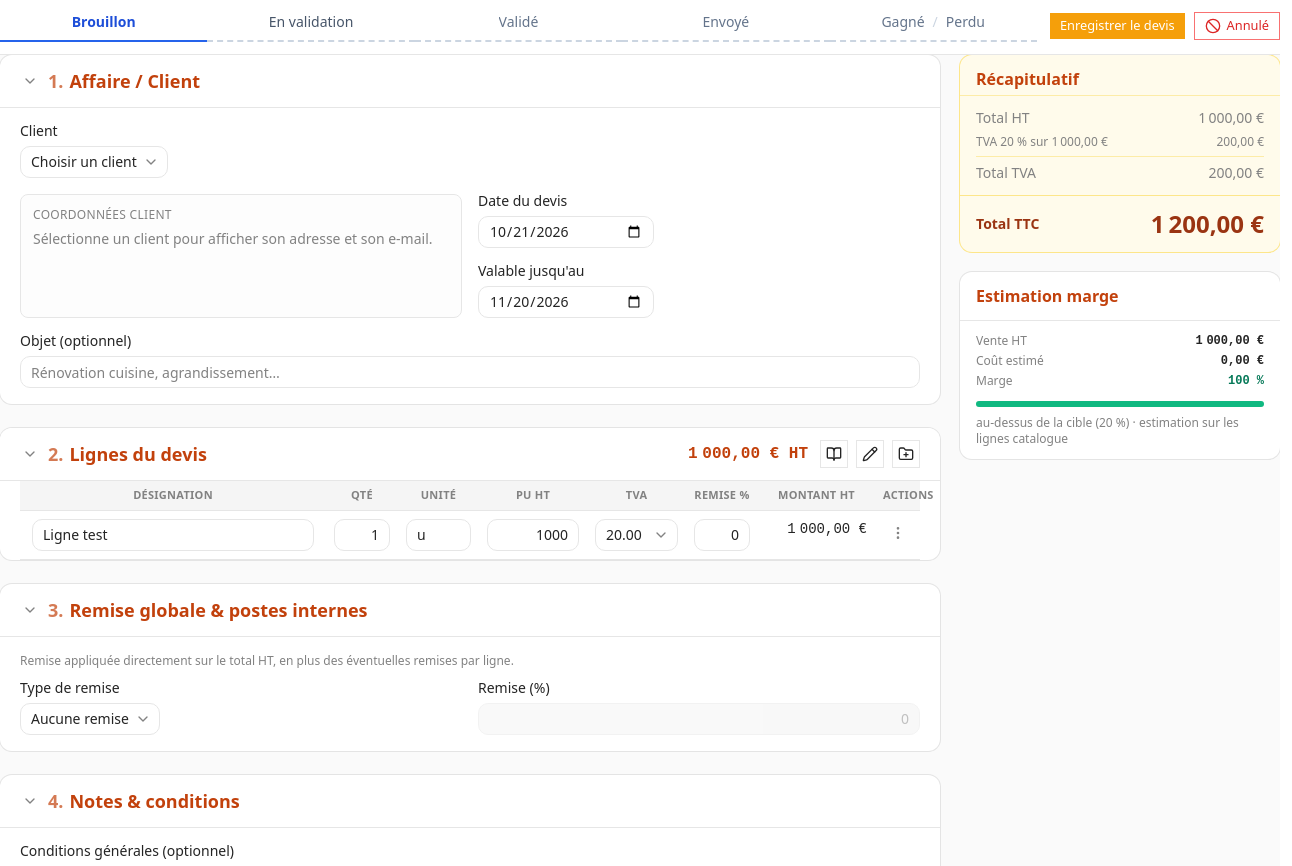
DevisEditor — boutons composants gatés sur import DPGF › masque les 4 boutons composants quand aucun DPGF n’a été importé
Click the heading titled "Actions de la ligne" at (898, 532), box [890, 524, 906, 540]
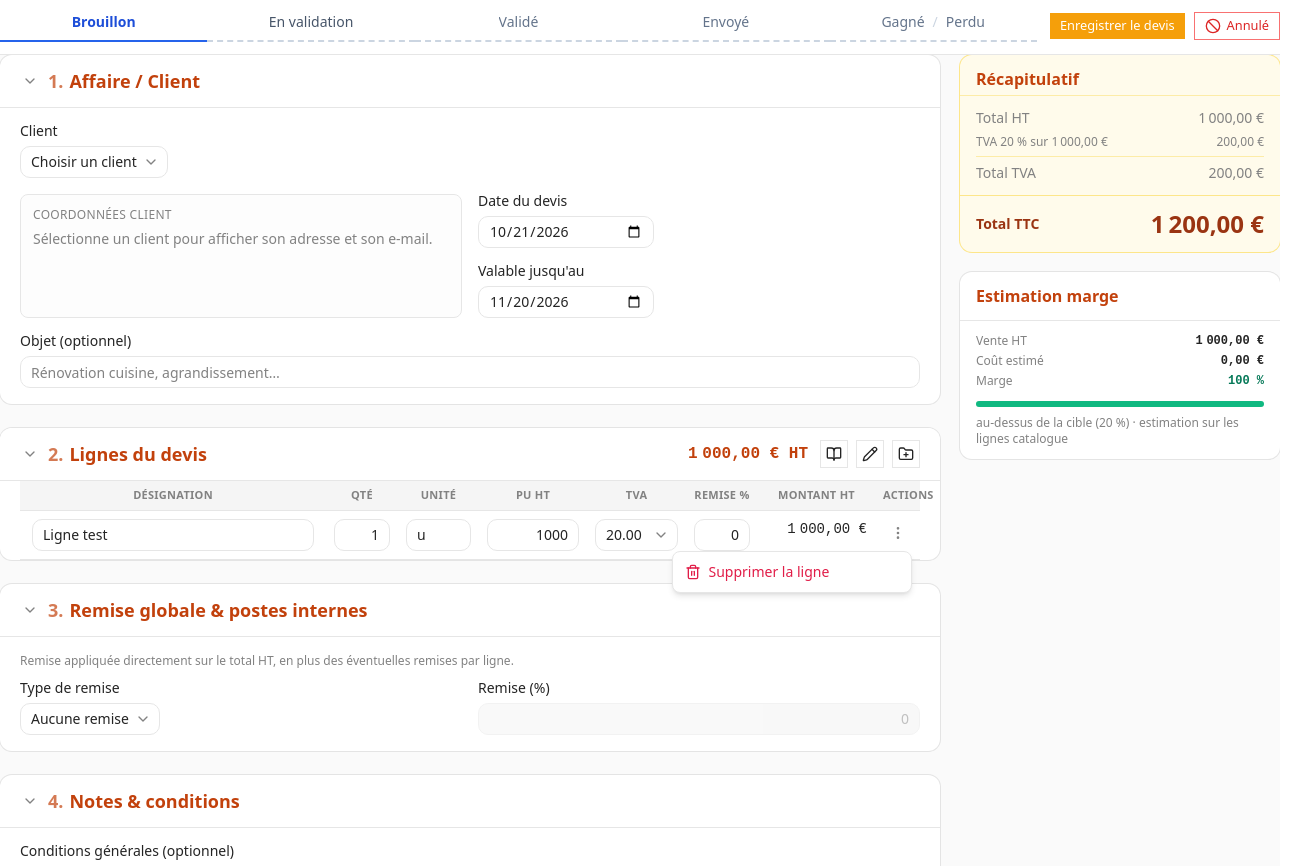
Expected: the button labelled "Supprimer la ligne" is shown, [676, 556, 906, 588]
